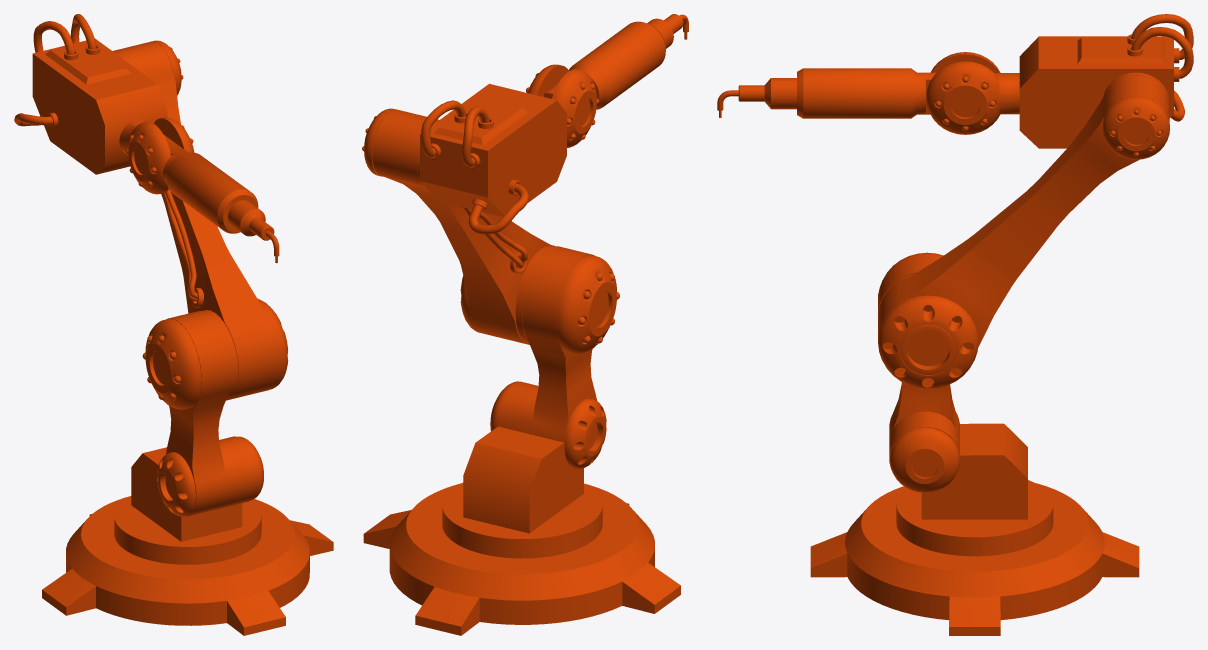
Rendered from Robot_Kol_LP.FBX.
3 views of the same model, side by side, from view 1: azimuth 30°, elevation 25°; view 2: azimuth 150°, elevation 25°; view 3: azimuth 270°, elevation 25° (orthographic). The views are drawn at different scales.
Parts seen in each view (by area): view 1: govde, taban, kol_02, kol_03, kol_01; view 2: govde, taban, kol_02, kol_03, kol_01; view 3: kol_03, taban, govde, kol_02, kol_01.
Part boxes in pixels (box(x1,y1,x2,y2)): govde: box(114, 311, 263, 564); taban: box(42, 496, 333, 635); kol_02: box(14, 14, 194, 194); kol_03: box(112, 40, 288, 400); kol_01: box(163, 134, 279, 263); govde: box(442, 246, 619, 558); taban: box(363, 483, 680, 635); kol_02: box(417, 64, 599, 234); kol_03: box(362, 108, 554, 344); kol_01: box(544, 14, 688, 109); kol_03: box(878, 75, 1169, 388); taban: box(810, 483, 1139, 635); govde: box(878, 252, 1053, 556); kol_02: box(926, 14, 1193, 148); kol_01: box(717, 68, 936, 118).
Bounding box in the file's own units: 3.51 × 5.08 × 6.23.
